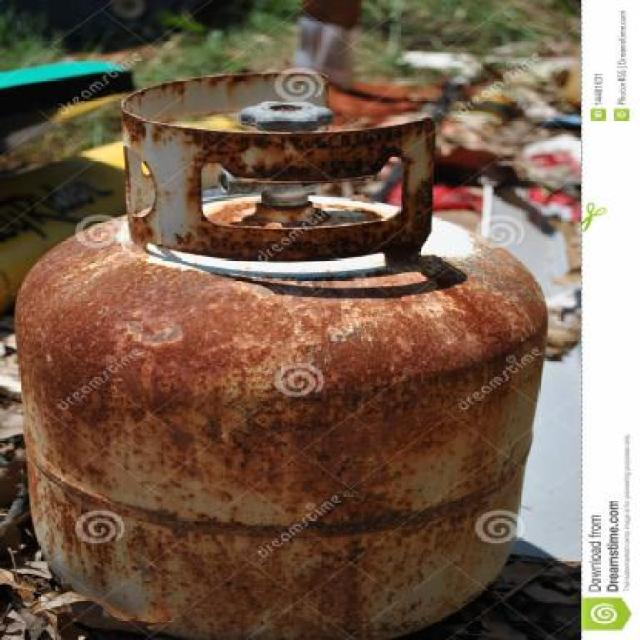corrosion: (13, 64, 552, 640)
